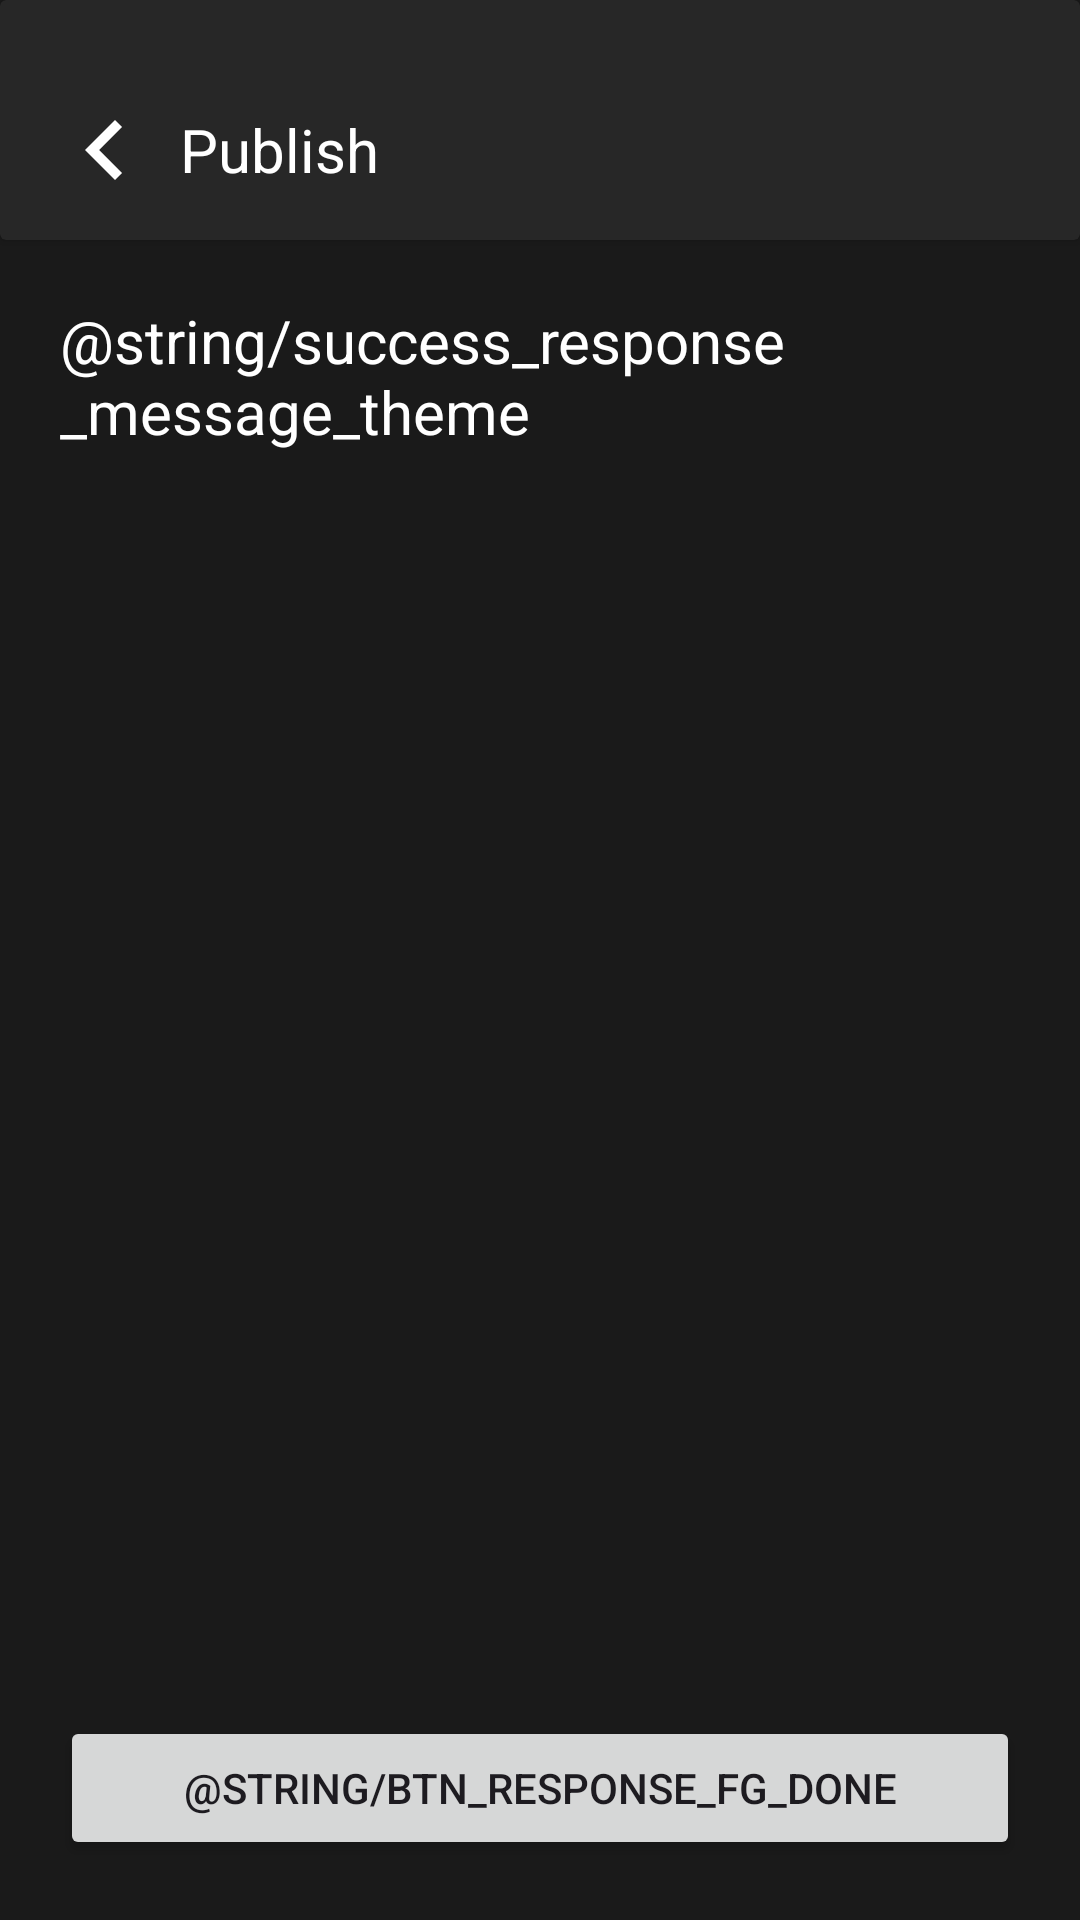

Icons on this 1080x1920 Android screen, each with the point to tap as (x,y):
back: (103,150)
